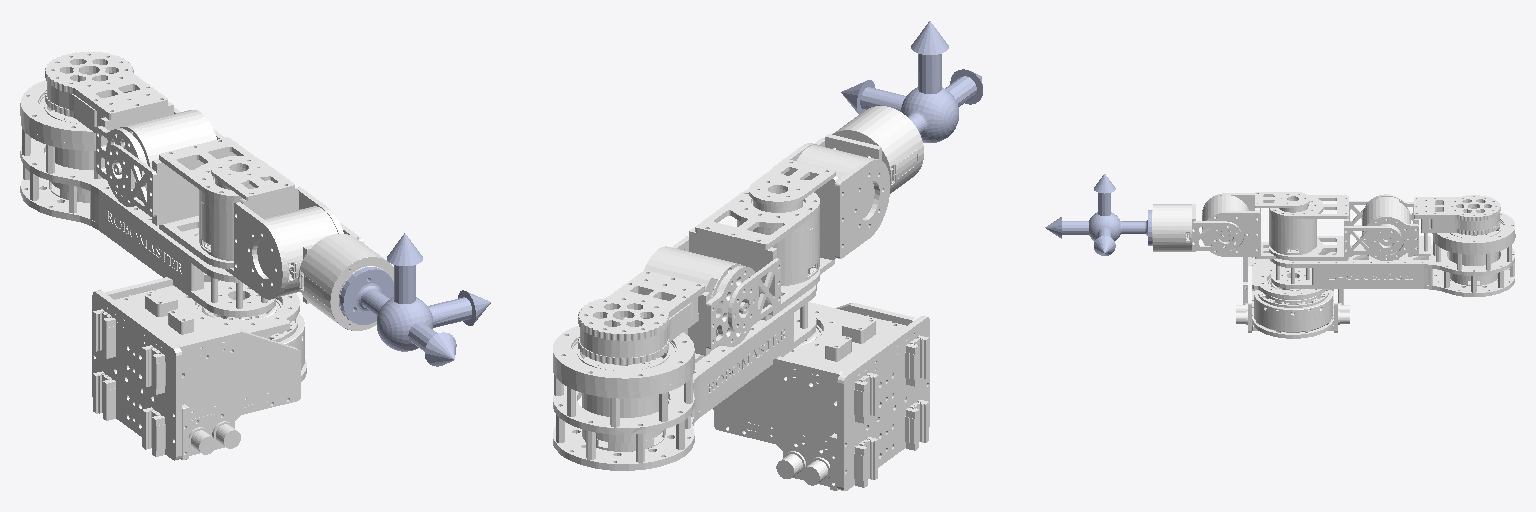
URDF robot description (rm_engineering_robot):
<?xml version="1.0" encoding="utf-8"?>
<!-- This URDF was automatically created by SolidWorks to URDF Exporter! Originally created by Stephen Brawner (brawner@gmail.com) 
     Commit Version: 1.6.0-4-g7f85cfe  Build Version: 1.6.7995.38578
     For more information, please see http://wiki.ros.org/sw_urdf_exporter -->
<robot
  name="rm_engineering_robot">
  <link
    name="base_link">
    <inertial>
      <origin
        xyz="0.0441017867167568 -0.00212471499501255 -0.0159376079458576"
        rpy="0 0 0" />
      <mass
        value="9.50155675587252" />
      <inertia
        ixx="0.038834278623198"
        ixy="-6.44543764662349E-08"
        ixz="4.36763988733142E-05"
        iyy="0.0503325720785253"
        iyz="-1.48514591158403E-05"
        izz="0.0507118977150954" />
    </inertial>
    <visual>
      <origin
        xyz="0 0 0"
        rpy="0 0 0" />
      <geometry>
        <mesh
          filename="package://rm_engineering_robot_description/meshes/base_link.STL" />
      </geometry>
      <material
        name="">
        <color
          rgba="0.752941176470588 0.752941176470588 0.752941176470588 1" />
      </material>
    </visual>
    <collision>
    <origin
        xyz="0 0 0.2"
        rpy="0 0 0" />
    <geometry>
    <box size="0.4 0.4 0.6"/>
  </geometry>
</collision>
  </link>
  <link
    name="link0">
    <inertial>
      <origin
        xyz="-0.0426656341820522 1.45775832843925E-05 -0.0269256057344809"
        rpy="0 0 0" />
      <mass
        value="0.527978667464703" />
      <inertia
        ixx="0.000413860140163883"
        ixy="-7.8520358597602E-08"
        ixz="-3.25375692276384E-06"
        iyy="0.000456270445303117"
        iyz="9.41252519034288E-08"
        izz="0.000620417684042287" />
    </inertial>
    <visual>
      <origin
        xyz="0 0 0"
        rpy="0 0 0" />
      <geometry>
        <mesh
          filename="package://rm_engineering_robot_description/meshes/link0.STL" />
      </geometry>
      <material
        name="">
        <color
          rgba="1 1 1 1" />
      </material>
    </visual>
    <collision>
      <origin
        xyz="0 0 0"
        rpy="0 0 0" />
      <geometry>
        <mesh
          filename="package://rm_engineering_robot_description/meshes/link0.STL" />
      </geometry>
    </collision>
  </link>
  <joint
    name="base_to_arm_link"
    type="fixed">
    <origin
      xyz="0.272038584143716 0.00806855047731339 0.100301760695516"
      rpy="0 0 0" />
    <parent
      link="base_link" />
    <child
      link="link0" />
    <axis
      xyz="0 0 0" />
  </joint>
  <link
    name="link1">
    <inertial>
      <origin
        xyz="5.40017837108442E-06 0.164026213730281 0.0271417802096993"
        rpy="0 0 0" />
      <mass
        value="0.628167715304594" />
      <inertia
        ixx="0.00193286660773188"
        ixy="7.89347095743727E-07"
        ixz="-2.29282052792647E-09"
        iyy="0.000275686301860537"
        iyz="9.04331021702343E-09"
        izz="0.00215427512180451" />
    </inertial>
    <visual>
      <origin
        xyz="0 0 0"
        rpy="0 0 0" />
      <geometry>
        <mesh
          filename="package://rm_engineering_robot_description/meshes/link1.STL" />
      </geometry>
      <material
        name="">
        <color
          rgba="1 1 1 1" />
      </material>
    </visual>
    <collision>
      <origin
        xyz="0 0 0"
        rpy="0 0 0" />
      <geometry>
        <mesh
          filename="package://rm_engineering_robot_description/meshes/link1.STL" />
      </geometry>
    </collision>
  </link>
  <joint
    name="joint0"
    type="revolute">
    <origin
      xyz="0 0 0.0109999999999993"
      rpy="0 0 0" />
    <parent
      link="link0" />
    <child
      link="link1" />
    <axis
      xyz="0 0 -1" />
    <limit
          lower="-3.14"
          upper="3.14"
          effort="87"
          velocity="2.3925" />
  </joint>
  <link
    name="link2">
    <inertial>
      <origin
        xyz="-2.10798444280069E-05 -0.0699804169564585 -0.00234469992386149"
        rpy="0 0 0" />
      <mass
        value="0.310860155101362" />
      <inertia
        ixx="0.000145070476575103"
        ixy="6.87644175047078E-09"
        ixz="-9.6407420273418E-09"
        iyy="9.9288991248962E-05"
        iyz="8.28164393041093E-08"
        izz="0.000162123902899647" />
    </inertial>
    <visual>
      <origin
        xyz="0 0 0"
        rpy="0 0 0" />
      <geometry>
        <mesh
          filename="package://rm_engineering_robot_description/meshes/link2.STL" />
      </geometry>
      <material
        name="">
        <color
          rgba="1 1 1 1" />
      </material>
    </visual>
    <collision>
      <origin
        xyz="0 0 0"
        rpy="0 0 0" />
      <geometry>
        <mesh
          filename="package://rm_engineering_robot_description/meshes/link2.STL" />
      </geometry>
    </collision>
  </link>
  <joint
    name="joint1"
    type="revolute">
    <origin
      xyz="0 0.21 0.0712499999999991"
      rpy="0 0 0" />
    <parent
      link="link1" />
    <child
      link="link2" />
    <axis
      xyz="0 0 1" />
    <limit
          lower="-3.14"
          upper="3.14"
          effort="87"
          velocity="2.3925" />
  </joint>
  <link
    name="link3">
    <inertial>
      <origin
        xyz="-0.0346835733889786 -0.0841474216239265 -0.000159405544450653"
        rpy="0 0 0" />
      <mass
        value="0.256072188172597" />
      <inertia
        ixx="0.000101103235427248"
        ixy="1.53888653597322E-08"
        ixz="-1.24862497192755E-08"
        iyy="8.52404593312206E-05"
        iyz="1.22966302116623E-07"
        izz="0.000133190301282263" />
    </inertial>
    <visual>
      <origin
        xyz="0 0 0"
        rpy="0 0 0" />
      <geometry>
        <mesh
          filename="package://rm_engineering_robot_description/meshes/link3.STL" />
      </geometry>
      <material
        name="">
        <color
          rgba="1 1 1 1" />
      </material>
    </visual>
    <collision>
      <origin
        xyz="0 0 0"
        rpy="0 0 0" />
      <geometry>
        <mesh
          filename="package://rm_engineering_robot_description/meshes/link3.STL" />
      </geometry>
    </collision>
  </link>
  <joint
    name="joint2"
    type="revolute">
    <origin
      xyz="0.0351249999999999 -0.101499999999985 -0.00699999999999912"
      rpy="0 0 0" />
    <parent
      link="link2" />
    <child
      link="link3" />
    <axis
      xyz="-1 0 0" />
    <limit
          lower="-3.14"
          upper="3.14"
          effort="87"
          velocity="2.3925" />
  </joint>
  <link
    name="link4">
    <inertial>
      <origin
        xyz="0.000491659665035282 -0.0607945845324705 -0.0326737146737962"
        rpy="0 0 0" />
      <mass
        value="0.201994868071281" />
      <inertia
        ixx="8.71444443053187E-05"
        ixy="-1.26557074286704E-08"
        ixz="1.15159856043106E-07"
        iyy="6.70727754608538E-05"
        iyz="-6.42467832117604E-09"
        izz="6.85319926253284E-05" />
    </inertial>
    <visual>
      <origin
        xyz="0 0 0"
        rpy="0 0 0" />
      <geometry>
        <mesh
          filename="package://rm_engineering_robot_description/meshes/link4.STL" />
      </geometry>
      <material
        name="">
        <color
          rgba="1 1 1 1" />
      </material>
    </visual>
    <collision>
      <origin
        xyz="0 0 0"
        rpy="0 0 0" />
      <geometry>
        <mesh
          filename="package://rm_engineering_robot_description/meshes/link4.STL" />
      </geometry>
    </collision>
  </link>
  <joint
    name="joint3"
    type="revolute">
    <origin
      xyz="-0.0350749999999039 -0.108499999999999 0.0355000000000001"
      rpy="0 0 0" />
    <parent
      link="link3" />
    <child
      link="link4" />
    <axis
      xyz="0 0 1" />
    <limit
          lower="-3.14"
          upper="3.14"
          effort="87"
          velocity="2.3925" />
  </joint>
  <link
    name="link5">
    <inertial>
      <origin
        xyz="-0.0229843538337365 -0.0560542806146513 3.7153654775246E-05"
        rpy="0 0 0" />
      <mass
        value="0.13449836912989" />
      <inertia
        ixx="4.20627020856047E-05"
        ixy="1.26561411359688E-08"
        ixz="-6.42471876009535E-09"
        iyy="4.73177802915716E-05"
        iyz="-1.15159833715651E-07"
        izz="4.05967568240309E-05" />
    </inertial>
    <visual>
      <origin
        xyz="0 0 0"
        rpy="0 0 0" />
      <geometry>
        <mesh
          filename="package://rm_engineering_robot_description/meshes/link5.STL" />
      </geometry>
      <material
        name="">
        <color
          rgba="1 1 1 1" />
      </material>
    </visual>
    <collision>
      <origin
        xyz="0 0 0"
        rpy="0 0 0" />
      <geometry>
        <mesh
          filename="package://rm_engineering_robot_description/meshes/link5.STL" />
      </geometry>
    </collision>
  </link>
  <joint
    name="joint4"
    type="revolute">
    <origin
      xyz="0.0325000447835667 -0.0779999609183491 -0.0322000000000008"
      rpy="0 0 0" />
    <parent
      link="link4" />
    <child
      link="link5" />
    <axis
      xyz="-1 0 0" />
    <limit
          lower="-3.14"
          upper="3.14"
          effort="87"
          velocity="2.3925" />
  </joint>
  <link
    name="link6">
    <inertial>
      <origin
        xyz="0.0054490201709648 -0.0506269937736408 0.00544884712569366"
        rpy="0 0 0" />
      <mass
        value="0.0750614681791985" />
      <inertia
        ixx="6.76910095526516E-05"
        ixy="7.6609433858045E-07"
        ixz="2.22854744403132E-06"
        iyy="4.06551980417372E-05"
        iyz="7.66059078129065E-07"
        izz="6.76906321090089E-05" />
    </inertial>
    <visual>
      <origin
        xyz="0 0 0"
        rpy="0 0 0" />
      <geometry>
        <mesh
          filename="package://rm_engineering_robot_description/meshes/link6.STL" />
      </geometry>
      <material
        name="">
        <color
          rgba="0.792156862745098 0.819607843137255 0.933333333333333 1" />
      </material>
    </visual>
    <collision>
      <origin
        xyz="0 0 0"
        rpy="0 0 0" />
      <geometry>
        <mesh
          filename="package://rm_engineering_robot_description/meshes/link6.STL" />
      </geometry>
    </collision>
  </link>
  <joint
    name="joint5"
    type="revolute">
    <origin
      xyz="-0.0250000447835505 -0.0885000390816639 0"
      rpy="0 0 0" />
    <parent
      link="link5" />
    <child
      link="link6" />
    <axis
      xyz="0 1 0" />
    <limit
          lower="-3.14"
          upper="3.14"
          effort="87"
          velocity="2.3925" />
  </joint>
  <link
    name="end_effect_link">
  </link>
  <joint
    name="end_effect_joint"
    type="fixed">
    <origin
      xyz="-0.000976031857056886 -0.0527955056659936 -0.000976162265352409"
      rpy="0 0 0" />
    <parent
      link="link6" />
    <child
      link="end_effect_link" />
    <axis
      xyz="0 0 0" />
  </joint>

 <!-- ZED相机固定安装 -->
  <link name="zed_camera_link"/>

  <joint name="link3_to_zed_camera_link" type="fixed">
    <parent link="link5"/>
    <child link="zed_camera_link"/>
    <origin
      xyz="-0.0584090180117 -0.0871141177902 0.0330432309241"
      rpy="1.64075108736 0.0171079670332 -1.54271074297"/>
  </joint>
</robot>

--- Facts derived from the render (not from the file) ---
3 views of the same robot in one strip: view 1: azimuth 30°, elevation 25°; view 2: azimuth 150°, elevation 25°; view 3: azimuth 270°, elevation 25° (orthographic).
Robot: rm_engineering_robot — 10 links, 9 joints (6 revolute, 3 fixed); root link base_link; default pose: every joint at zero.
Visible links, largest first — view 1: link0, link1, link2, link3, link4, link6, link5; view 2: link0, link1, link2, link3, link4, link6, link5; view 3: link1, link0, link2, link3, link4, link5, link6.
Link boxes in pixels (<box>): link0: <box>92,277,306,460</box>; link1: <box>20,80,275,317</box>; link2: <box>45,51,216,206</box>; link3: <box>105,129,273,269</box>; link4: <box>211,156,343,299</box>; link6: <box>340,233,490,366</box>; link5: <box>298,223,393,330</box>; link0: <box>713,302,929,490</box>; link1: <box>553,285,816,470</box>; link2: <box>578,246,758,364</box>; link3: <box>671,189,819,333</box>; link4: <box>749,143,889,274</box>; link6: <box>841,21,982,142</box>; link5: <box>814,106,923,193</box>; link1: <box>1271,212,1515,296</box>; link0: <box>1236,257,1349,338</box>; link2: <box>1362,194,1500,260</box>; link3: <box>1269,195,1401,260</box>; link4: <box>1202,192,1309,258</box>; link5: <box>1152,204,1241,251</box>; link6: <box>1045,174,1151,255</box>.
Size in the robot's own frame: 0.1705 by 0.5472 by 0.2216 metres.
Meshes: 8 distinct files referenced, 7 mesh visuals loaded (7 binary STL); not drawn: 1 (reference not matched to a file when rendering).
